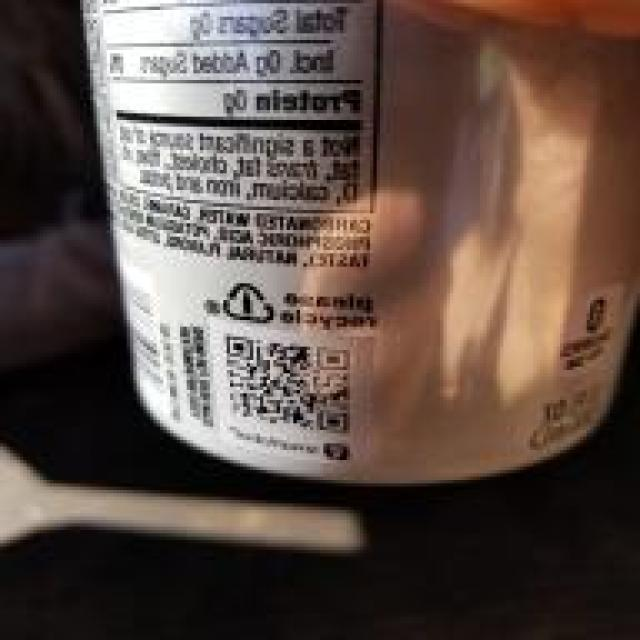QR_CODE: (212, 330, 363, 435)
